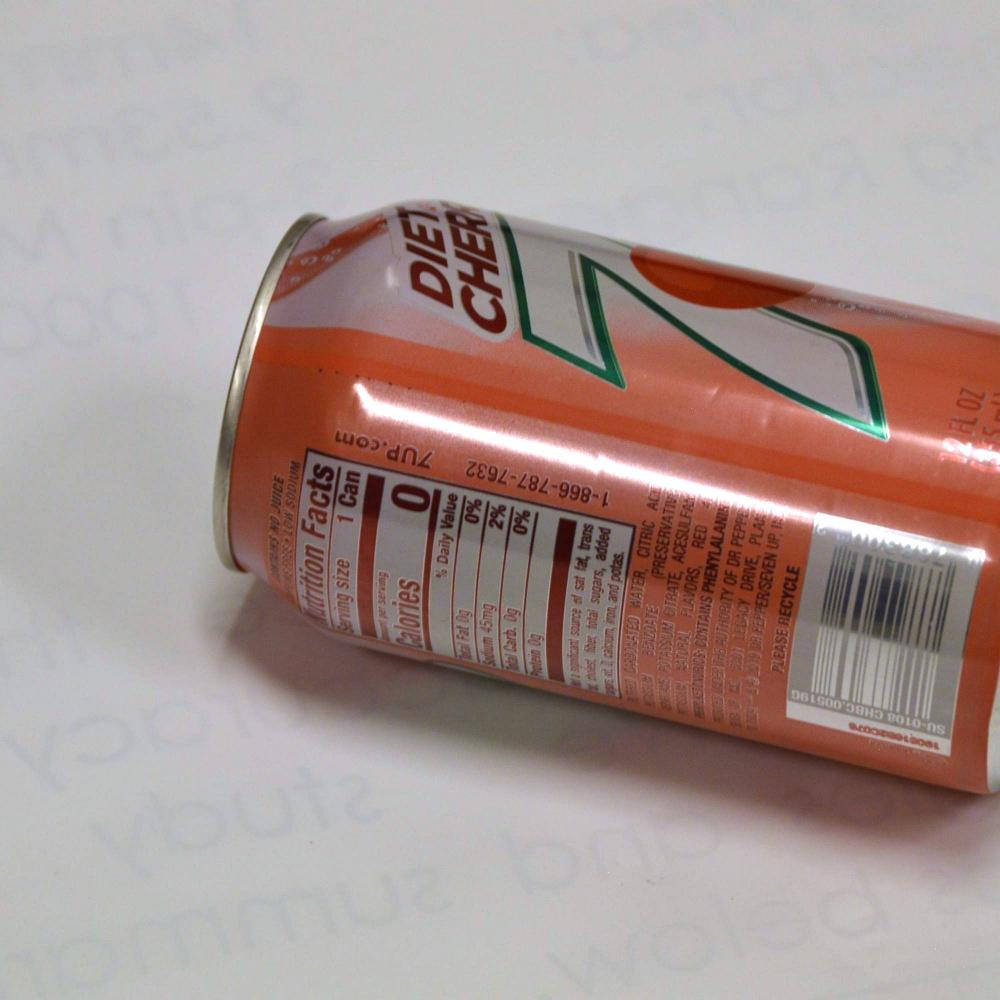Metal: (155, 123, 978, 842)
